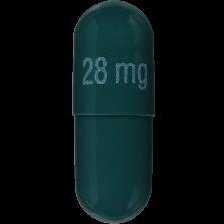69189-3428: (0, 0, 224, 224)
